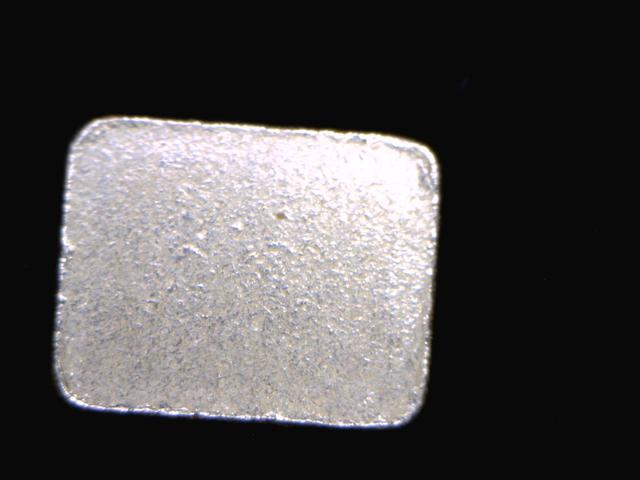ok: (34, 102, 448, 438)
